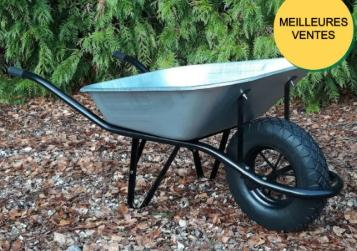ARROSOIR: (2, 5, 356, 251)
